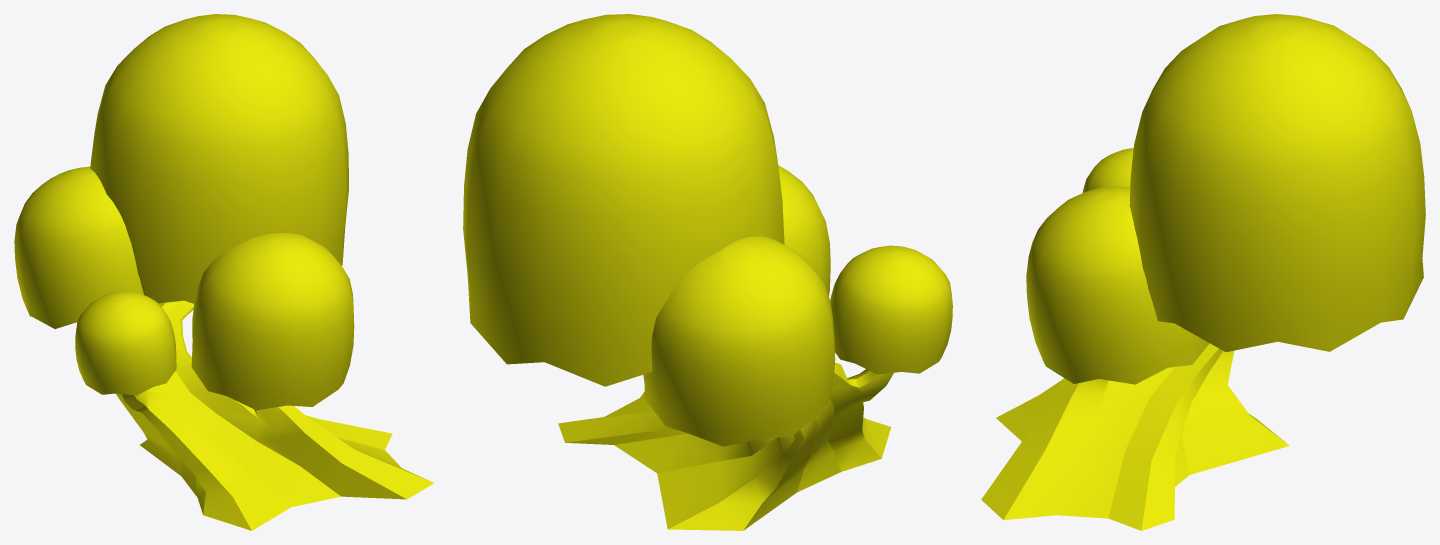
File: Tree_3.glb
3 renders of one model, left to right at view 1: azimuth 30°, elevation 25°; view 2: azimuth 150°, elevation 25°; view 3: azimuth 270°, elevation 25°, orthographic. The views are drawn at different scales.
Visible parts, largest first — view 1: polySurface712; view 2: polySurface712; view 3: polySurface712.
Part boxes in pixels (x1,y1,x2,y2): polySurface712: [14, 14, 434, 530]; polySurface712: [463, 14, 952, 530]; polySurface712: [981, 14, 1425, 530].
Size of the model in its own units: 0.8858 by 1.06 by 0.9676.
1 material, 1 textured.
